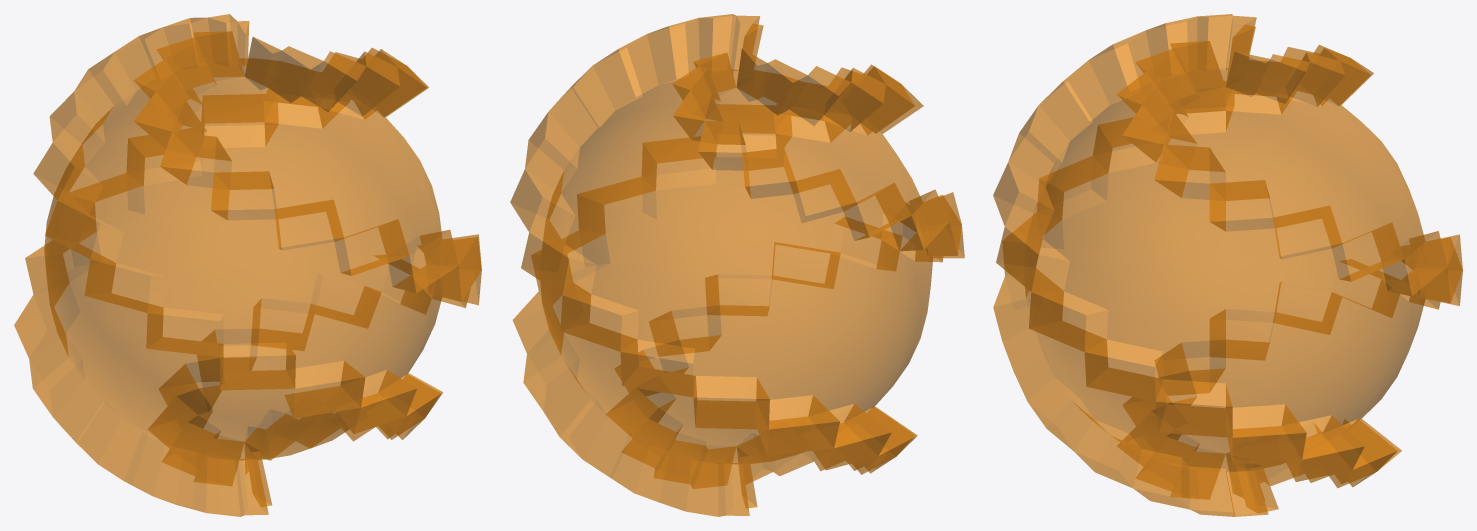
File: Portal_orange.fbx
3 renders of one model, left to right at view 1: azimuth 30°, elevation 25°; view 2: azimuth 150°, elevation 25°; view 3: azimuth 270°, elevation 25°, orthographic. The views are drawn at different scales.
Parts seen in each view (by area): view 1: pSphere2; view 2: pSphere2; view 3: pSphere2.
Part boxes in pixels (x1,y1,x2,y2): pSphere2: [14, 14, 481, 516]; pSphere2: [510, 14, 964, 516]; pSphere2: [993, 14, 1462, 516].
Size of the model in its own units: 9.26 by 10.09 by 9.36.
